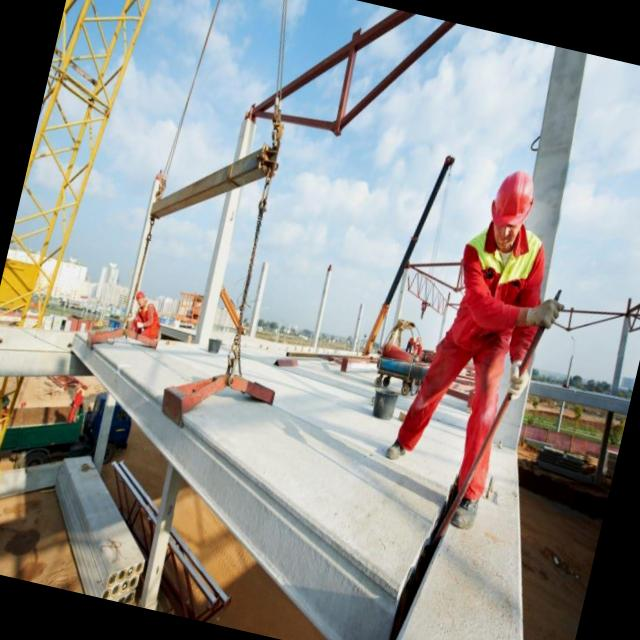helmet: (482, 160, 544, 232)
vest: (436, 228, 559, 383)
